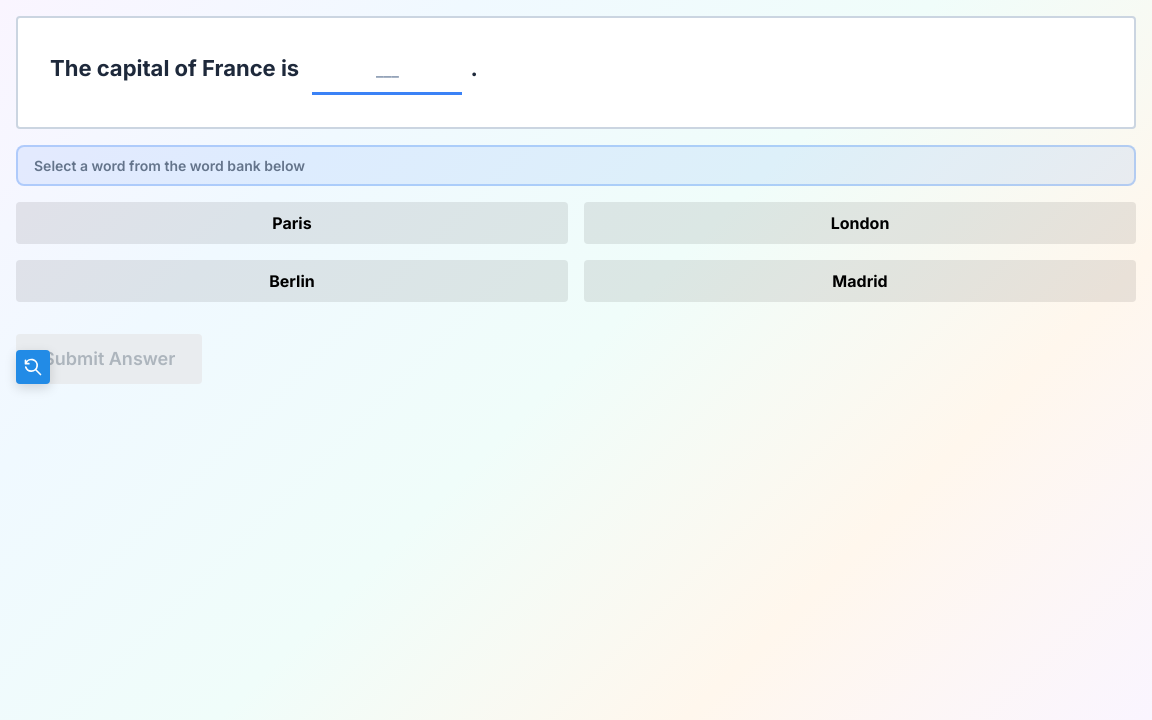
Test: CompletionView › should clear the answer when clear button is clicked
The width and height of the screenshot is (1152, 720).
What coordinates should you click on to do the following:
click the button "Paris"
I would click on:
 (292, 223)
Its box is left=16, top=202, right=568, bottom=244.
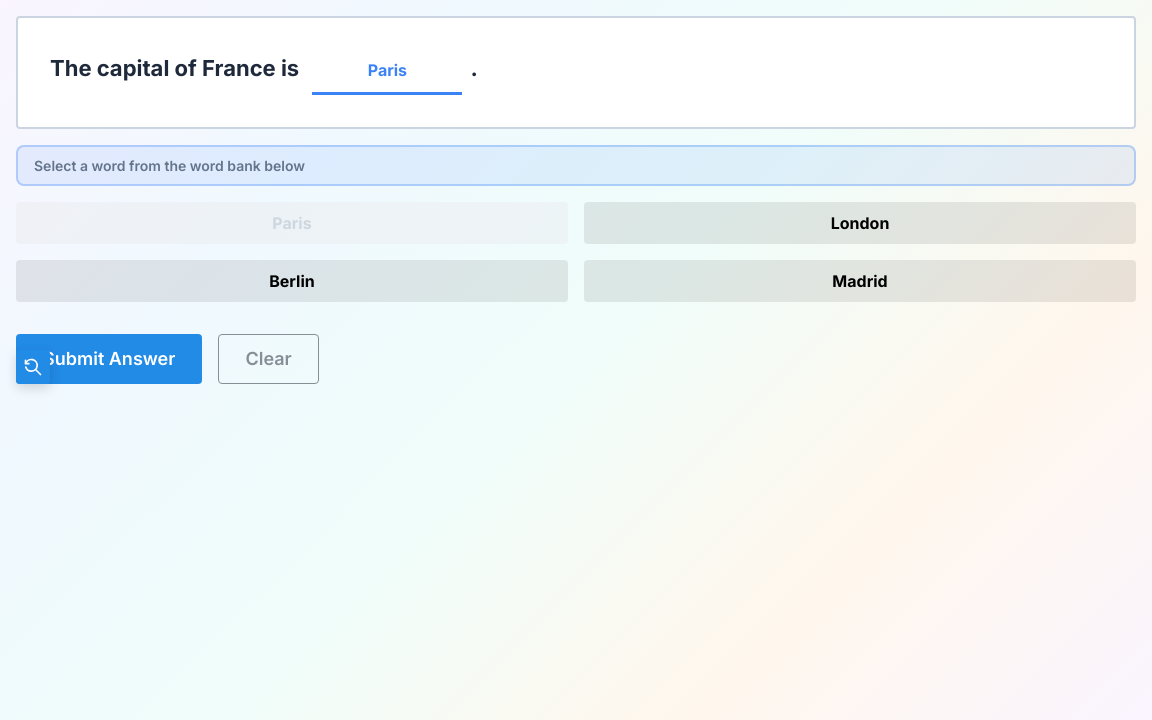
expect the text "___" is gone: met
What coordinates should you click on to do the following:
click the button "Clear"
I would click on:
 (269, 359)
Its box is left=218, top=334, right=319, bottom=384.
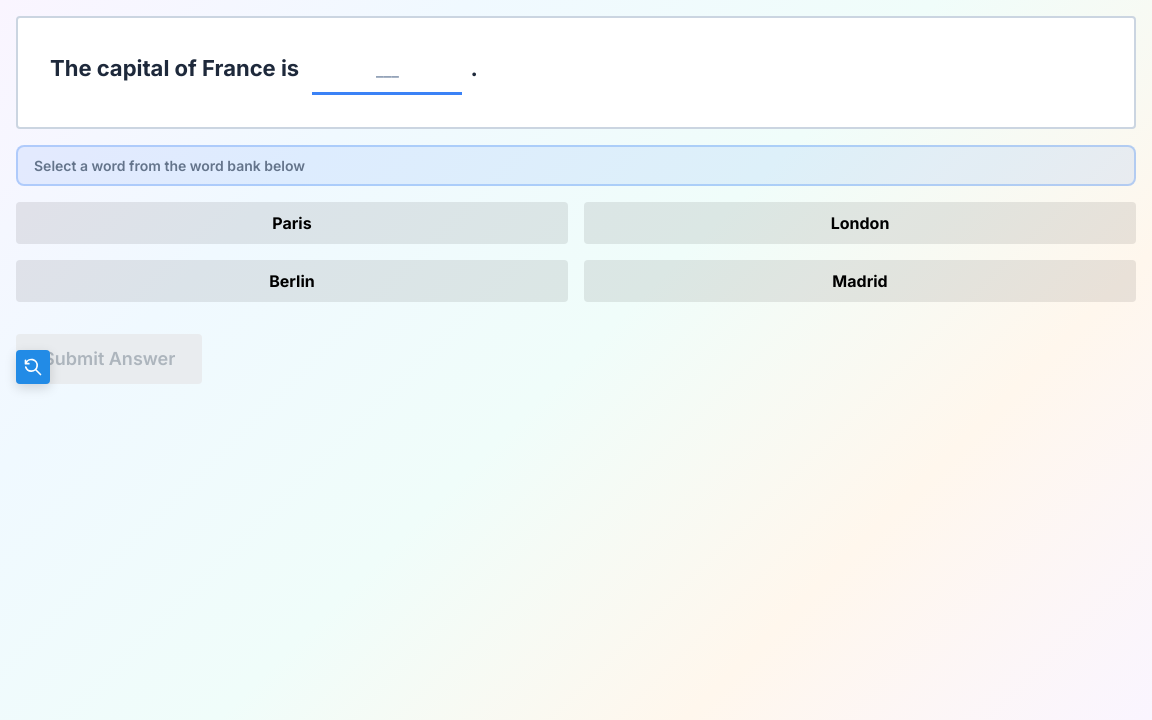
expect the text "___" is shown: met, box left=312, top=50, right=462, bottom=95
expect the button "Paris" is enabled: met, box left=16, top=202, right=568, bottom=244
